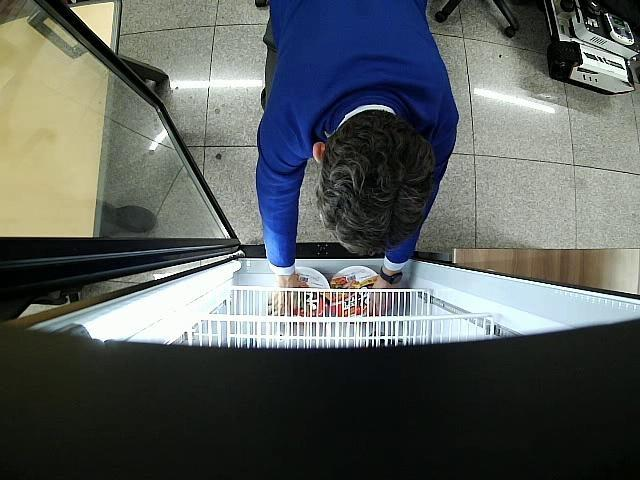10_wangTtukkeong: (332, 266, 379, 326), (288, 267, 332, 323)
